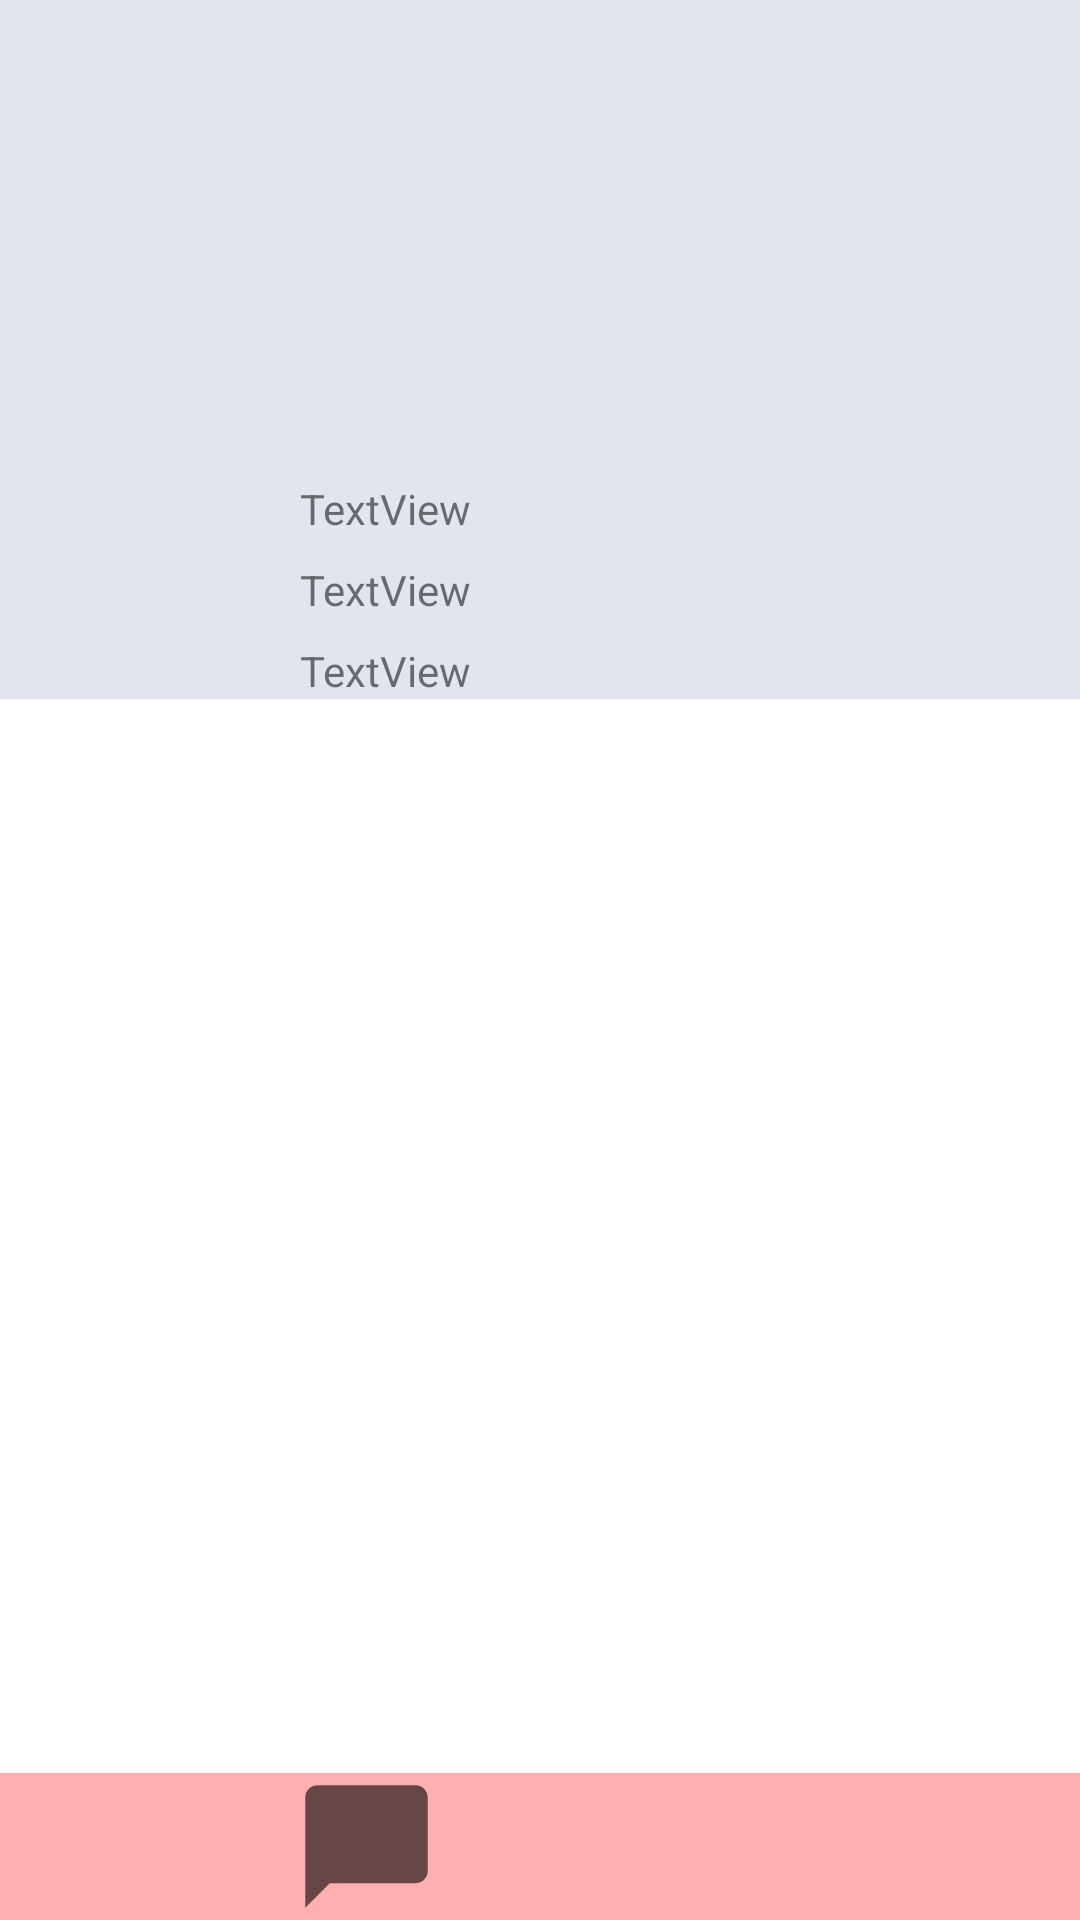

Screen size 1080w x 1920h. Icon name, then its box in pixels as (x1, y1, x2, y2):
ivchat: (305, 1785, 428, 1908)
